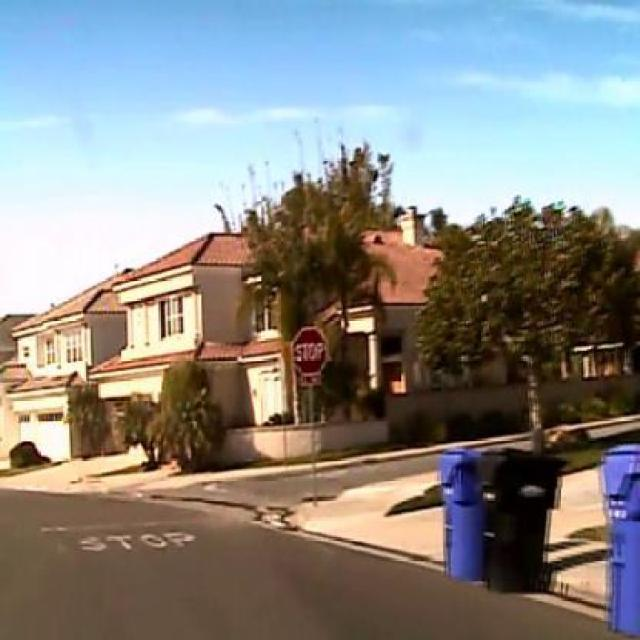stop: (289, 325, 329, 378)
